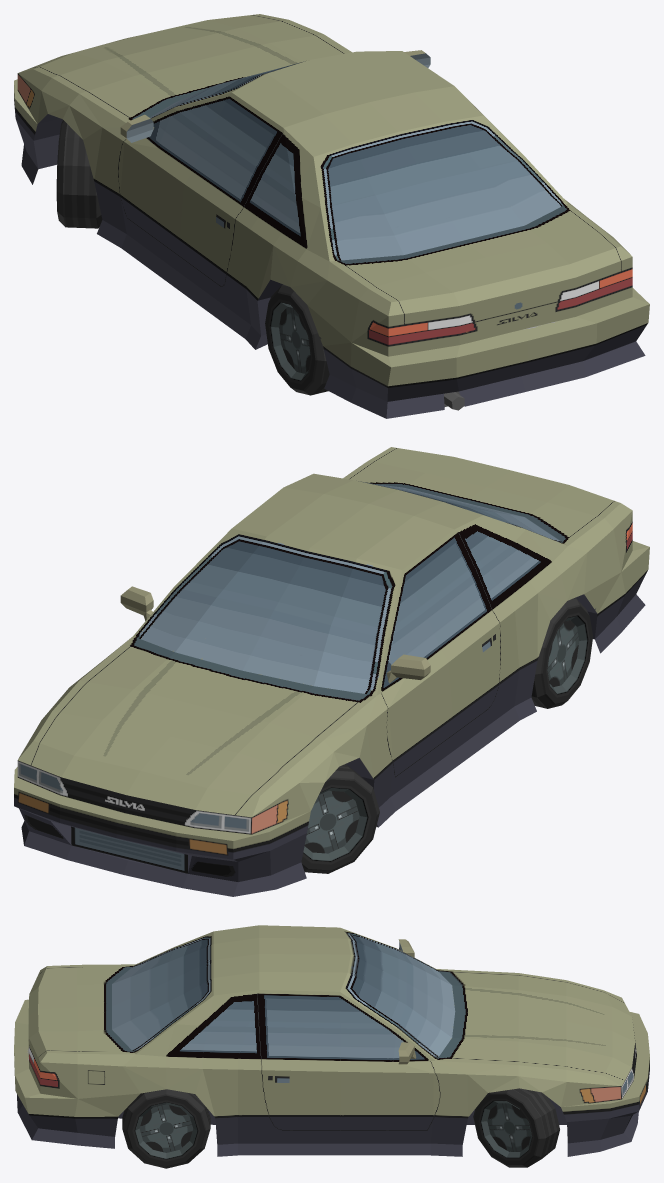
The model's file is nissan_silvia_s13_low-poly.glb.
3 renders of one model, top to bottom at view 1: azimuth 30°, elevation 25°; view 2: azimuth 150°, elevation 25°; view 3: azimuth 270°, elevation 25°, orthographic. The views are drawn at different scales.
Bounding box in the file's own units: 4.5 × 2.87 × 10.03.
5 materials, 2 textured.
